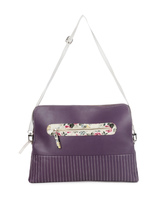bag: (18, 11, 146, 187)
